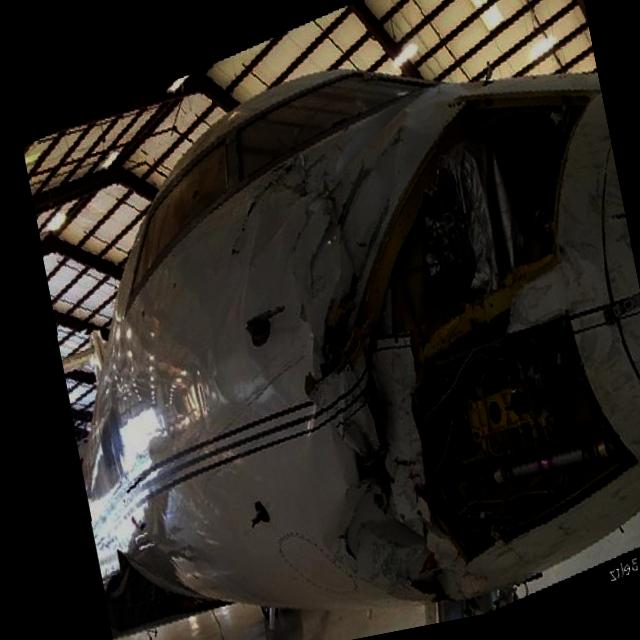crack: (214, 159, 310, 256), (327, 484, 382, 566)
